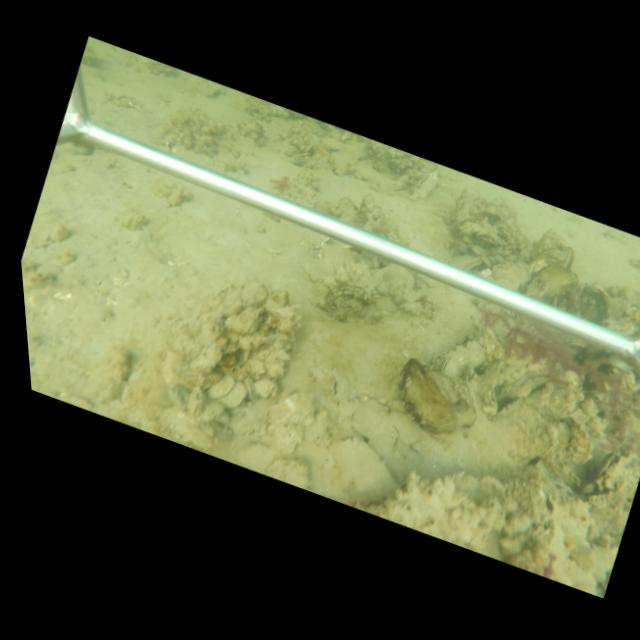Oyster-Closed: (400, 359, 457, 434), (433, 339, 485, 378), (476, 362, 504, 408), (409, 170, 439, 200), (437, 351, 459, 379), (465, 364, 473, 379)
Oyster-Indeterminate: (328, 434, 405, 500), (302, 186, 372, 223), (524, 264, 579, 300), (217, 380, 247, 410), (206, 375, 239, 402)
Oyster-Open: (582, 451, 632, 500)
